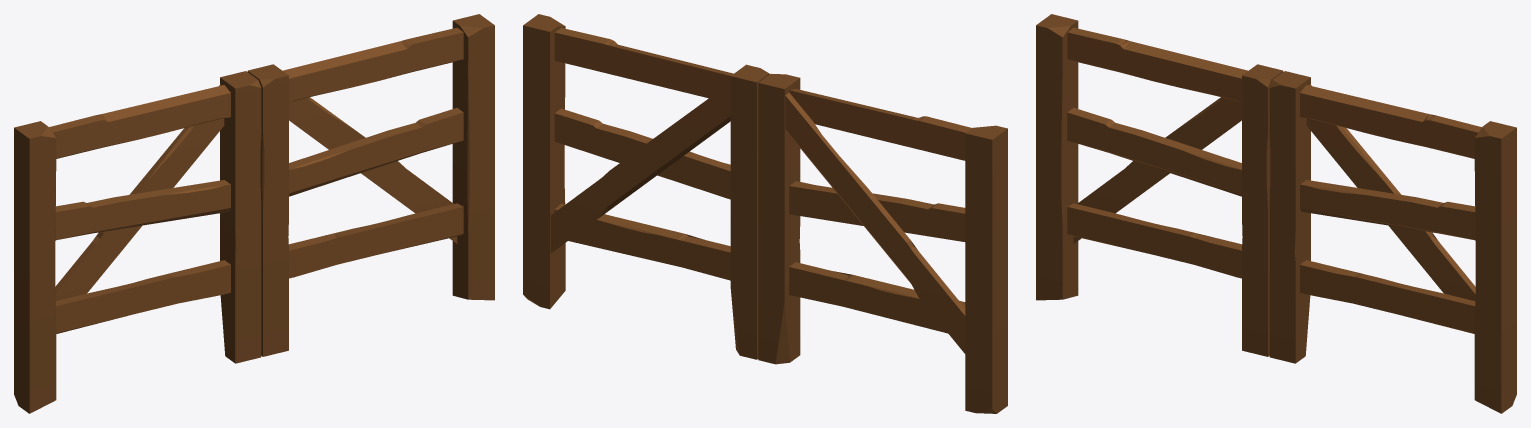
Rendered from Bld_02_Fence_Wood_Gate_Double_Worned_Handle_01.obj.
3 renders of one model, left to right at view 1: azimuth 30°, elevation 25°; view 2: azimuth 150°, elevation 25°; view 3: azimuth 330°, elevation 25°, orthographic.
Parts seen in each view (by area): view 1: Bld_02_Fence_Wood_Gate_Double_Left_Worned_01, Bld_02_Fence_Wood_Gate_Double_Right_Worned_01; view 2: Bld_02_Fence_Wood_Gate_Double_Left_Worned_01, Bld_02_Fence_Wood_Gate_Double_Right_Worned_01; view 3: Bld_02_Fence_Wood_Gate_Double_Right_Worned_01, Bld_02_Fence_Wood_Gate_Double_Left_Worned_01.
Part boxes in pixels (x1,y1,x2,y2): Bld_02_Fence_Wood_Gate_Double_Left_Worned_01: [14, 71, 261, 413]; Bld_02_Fence_Wood_Gate_Double_Right_Worned_01: [247, 14, 494, 356]; Bld_02_Fence_Wood_Gate_Double_Left_Worned_01: [758, 73, 1007, 413]; Bld_02_Fence_Wood_Gate_Double_Right_Worned_01: [523, 14, 769, 359]; Bld_02_Fence_Wood_Gate_Double_Right_Worned_01: [1269, 71, 1516, 413]; Bld_02_Fence_Wood_Gate_Double_Left_Worned_01: [1036, 14, 1283, 356].
Size of the model in its own units: 2.44 by 1.38 by 0.1404.
Materials: 1 (1 with a texture image).
